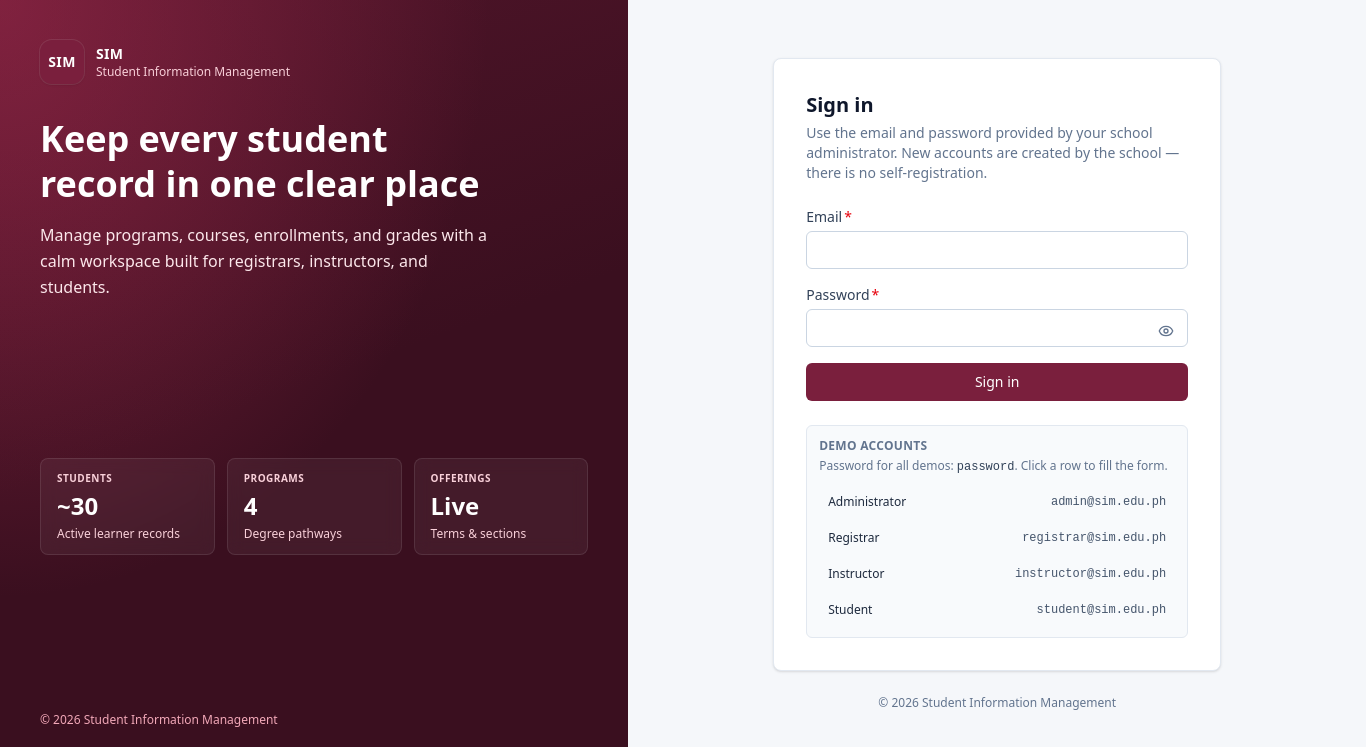
Test: LoginPage › shows invalid login error
This screenshot has width=1366, height=747.
In the field labelled "Email*": (997, 250) [806,230,1188,268], type "bad@sim.edu.ph"
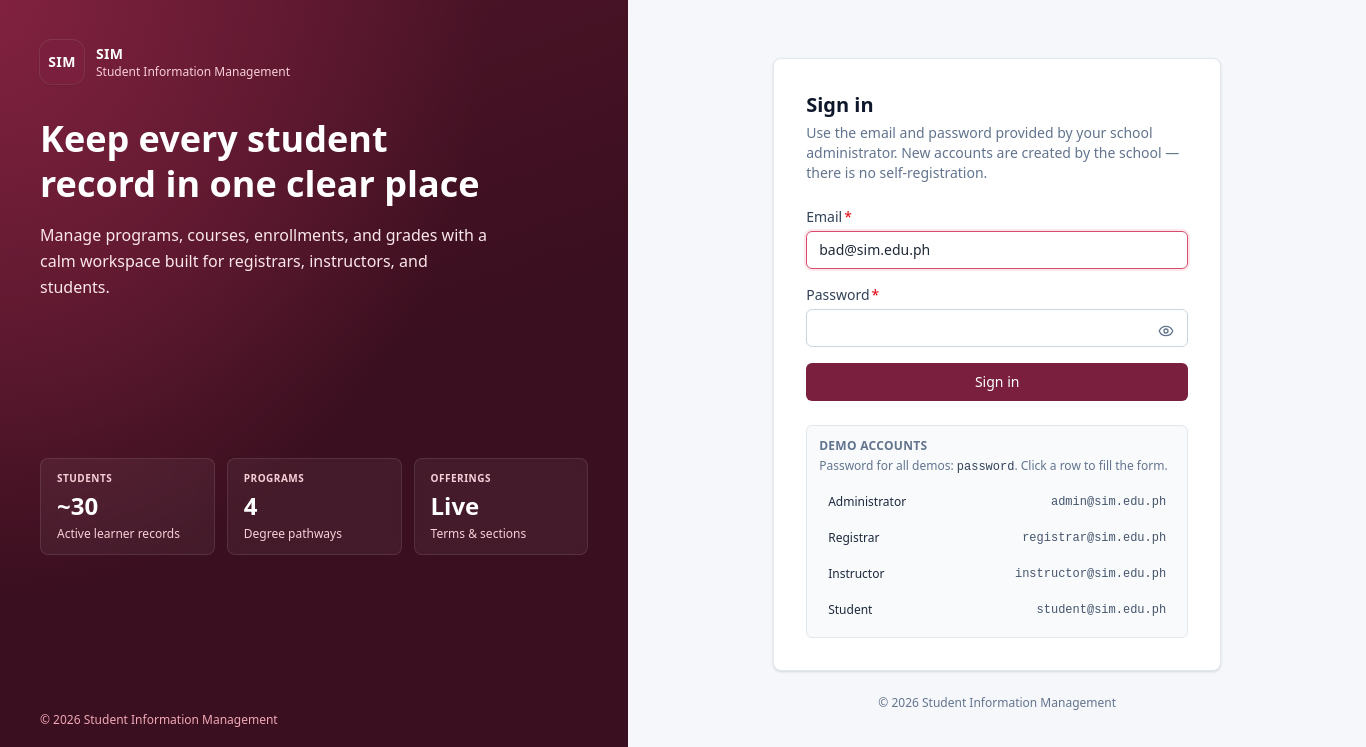
In the password field labelled "Password*": (997, 328) [806,308,1188,346], type "badpass"
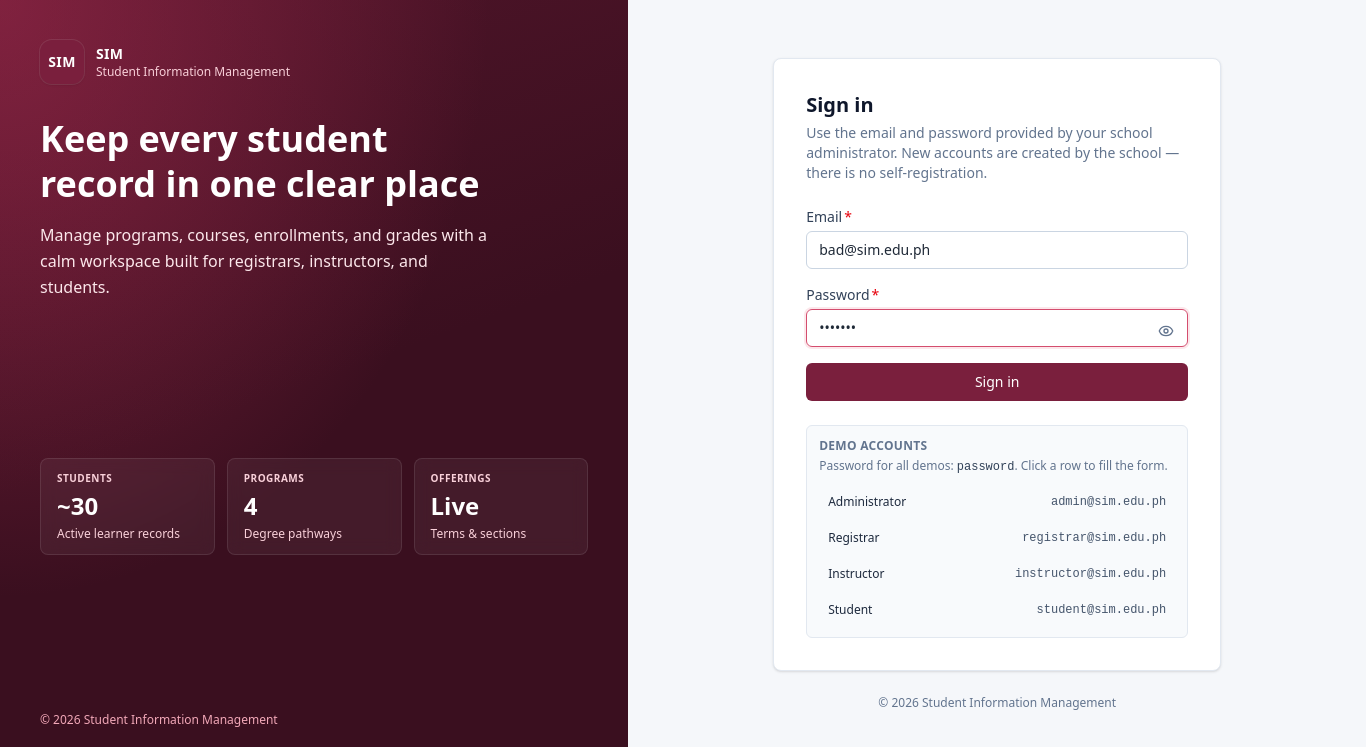
Click the button "Sign in": (997, 382) [806,362,1188,400]
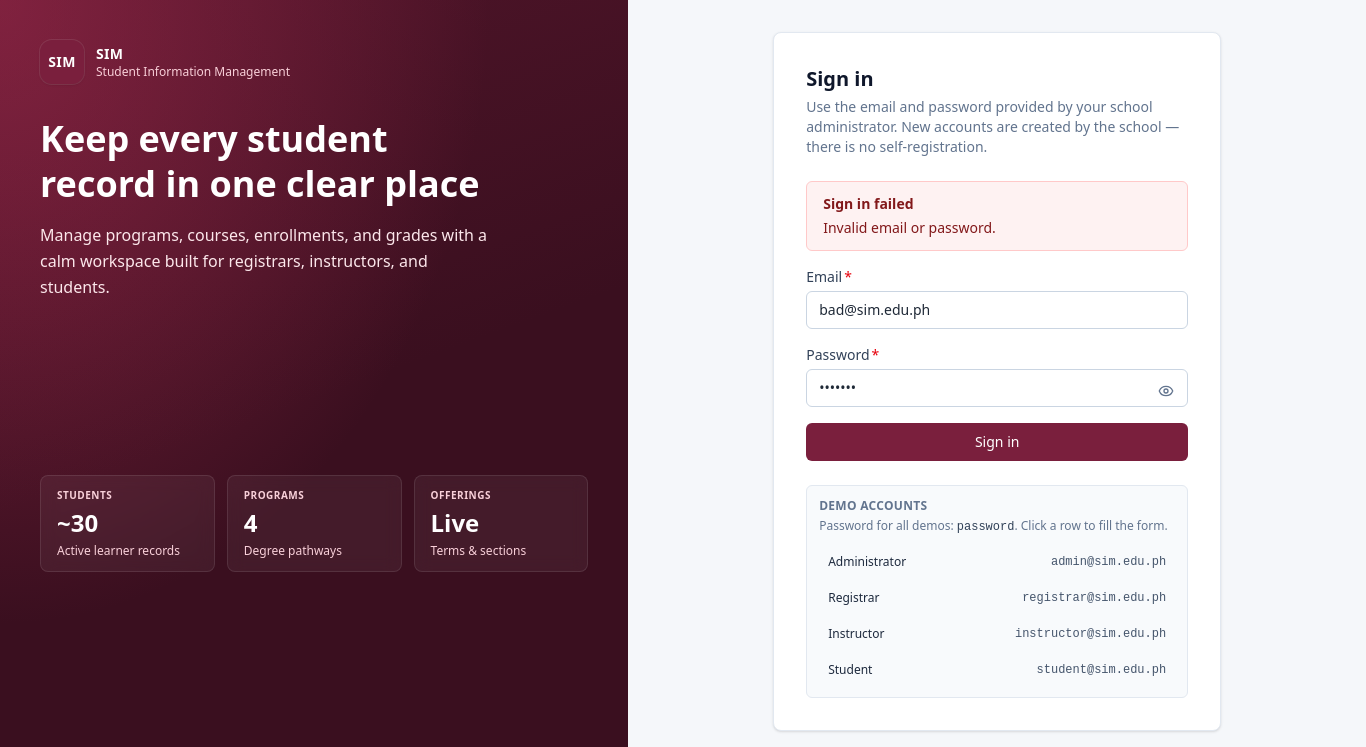
Now the text "Invalid email or password." is shown, box [823,218,996,237]
